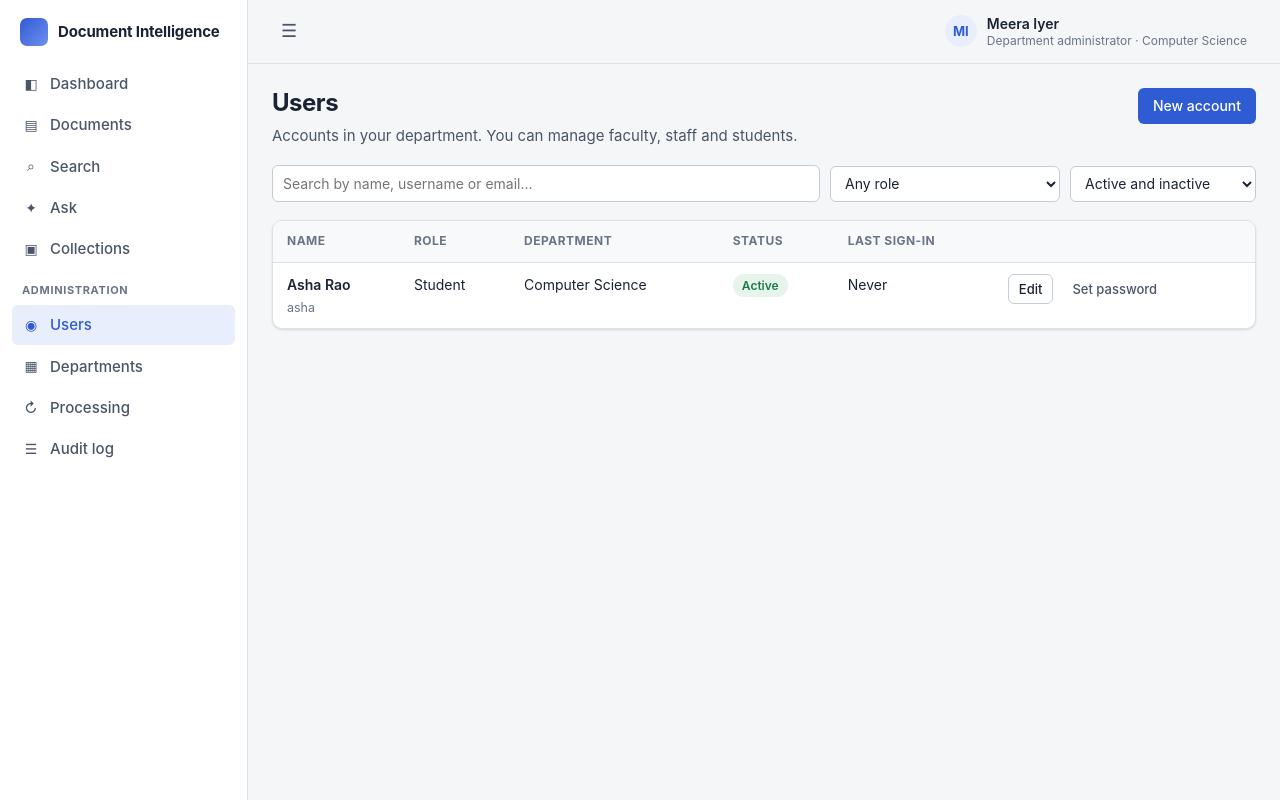
Test case: UsersPage › says why setting a password failed when the reason is not about the password
Generous: the admin screens are a lazily loaded chunk.
Click the button "Set password" at (1115, 289), box [1061,274,1168,304]
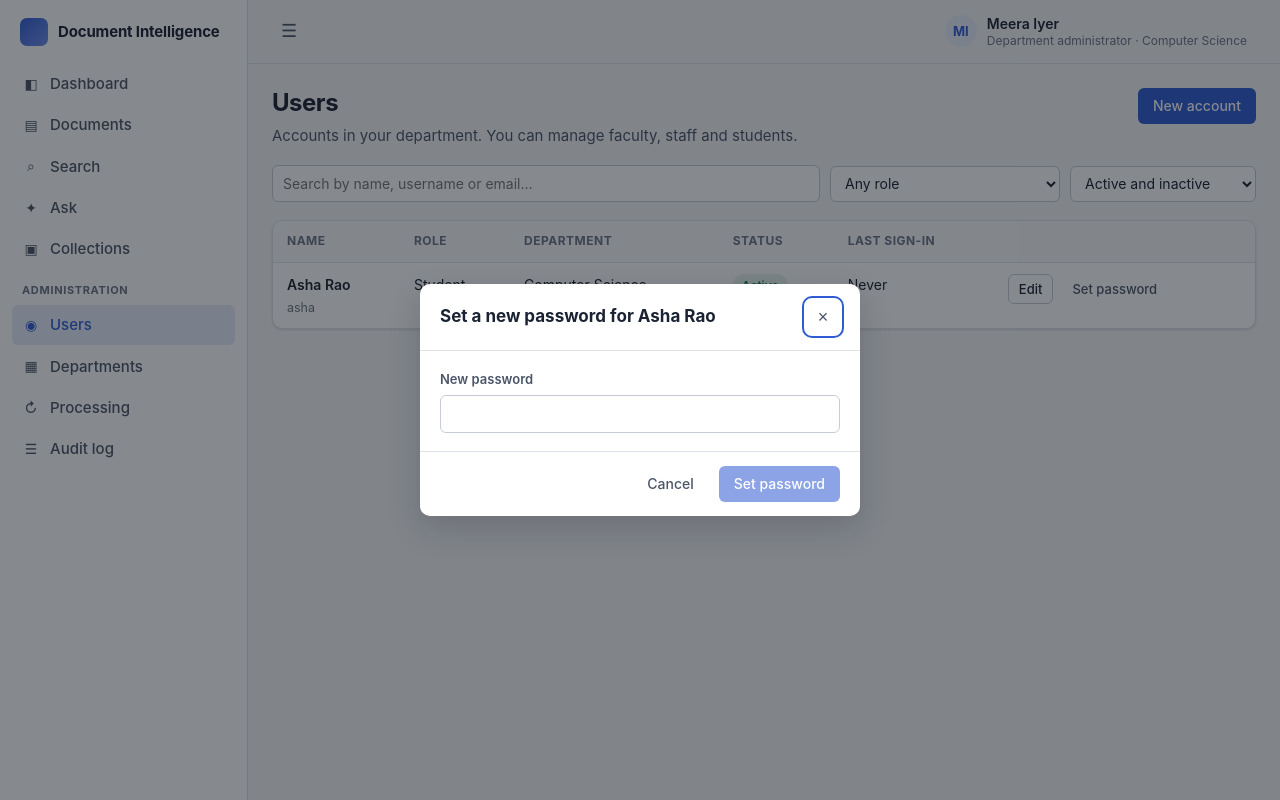
Type "a-new-passphrase" into the password field labelled "New password" at (640, 414), box [440,395,840,433]
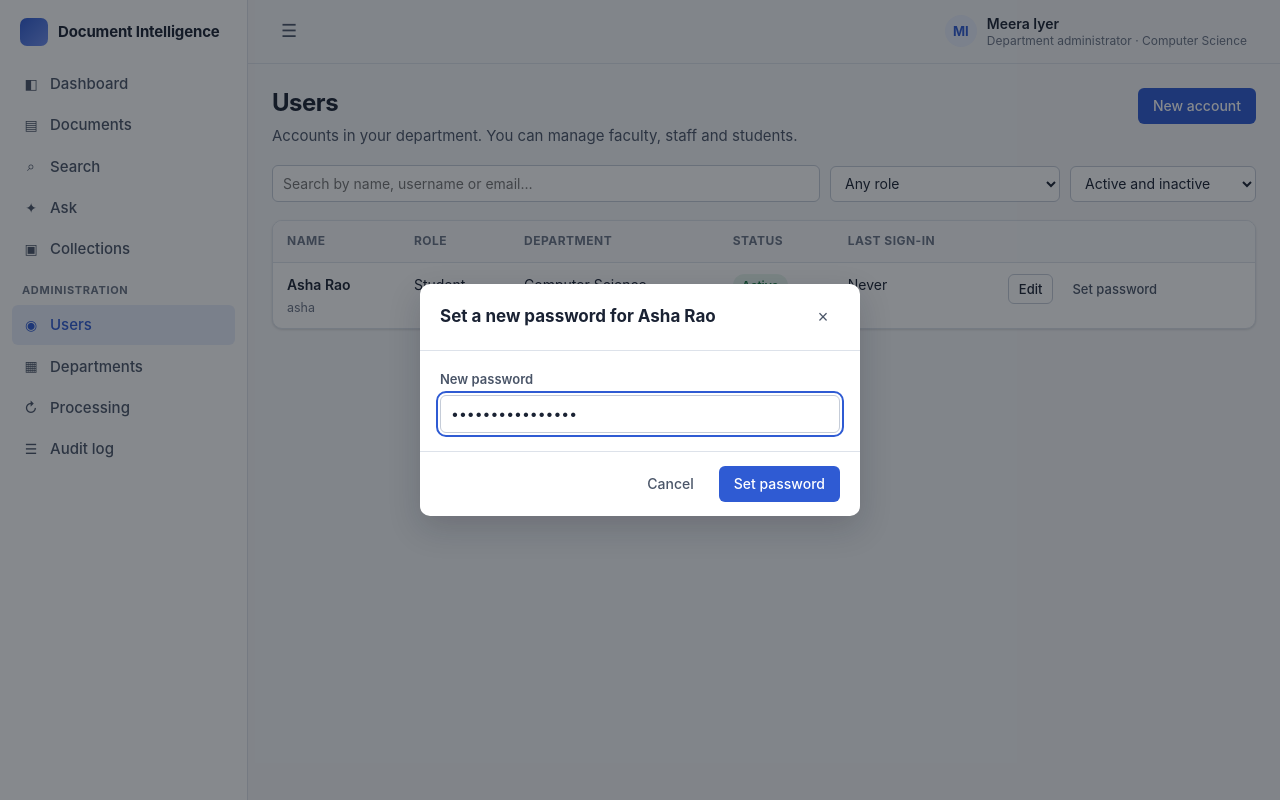
Click the button "Set password" at (779, 484), box [719,466,840,502]
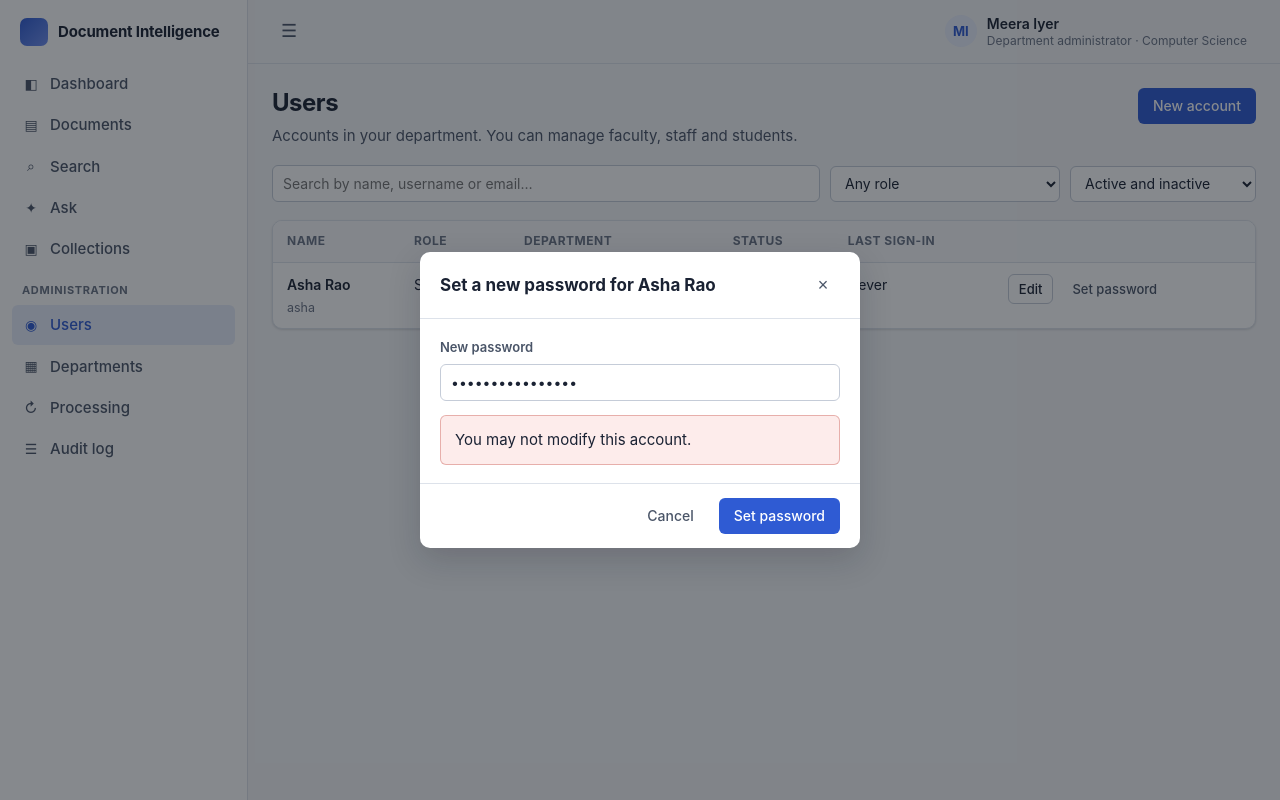
Result: the text "You may not modify this account." is shown at [455,428,691,452]
